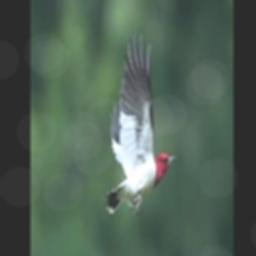Woodpecker: (102, 32, 176, 214)
